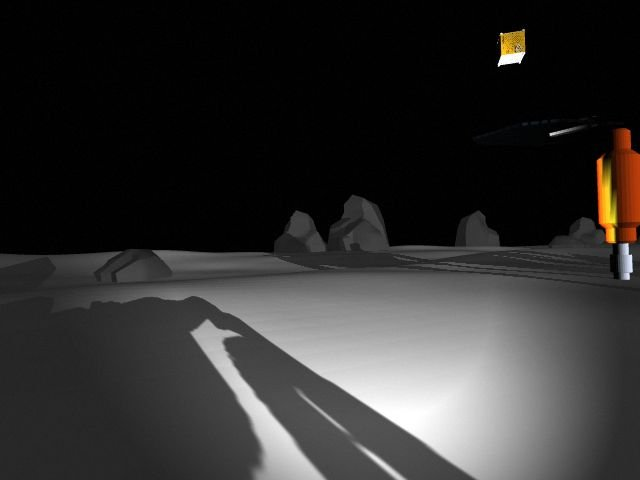cubesat: (491, 23, 540, 75)
